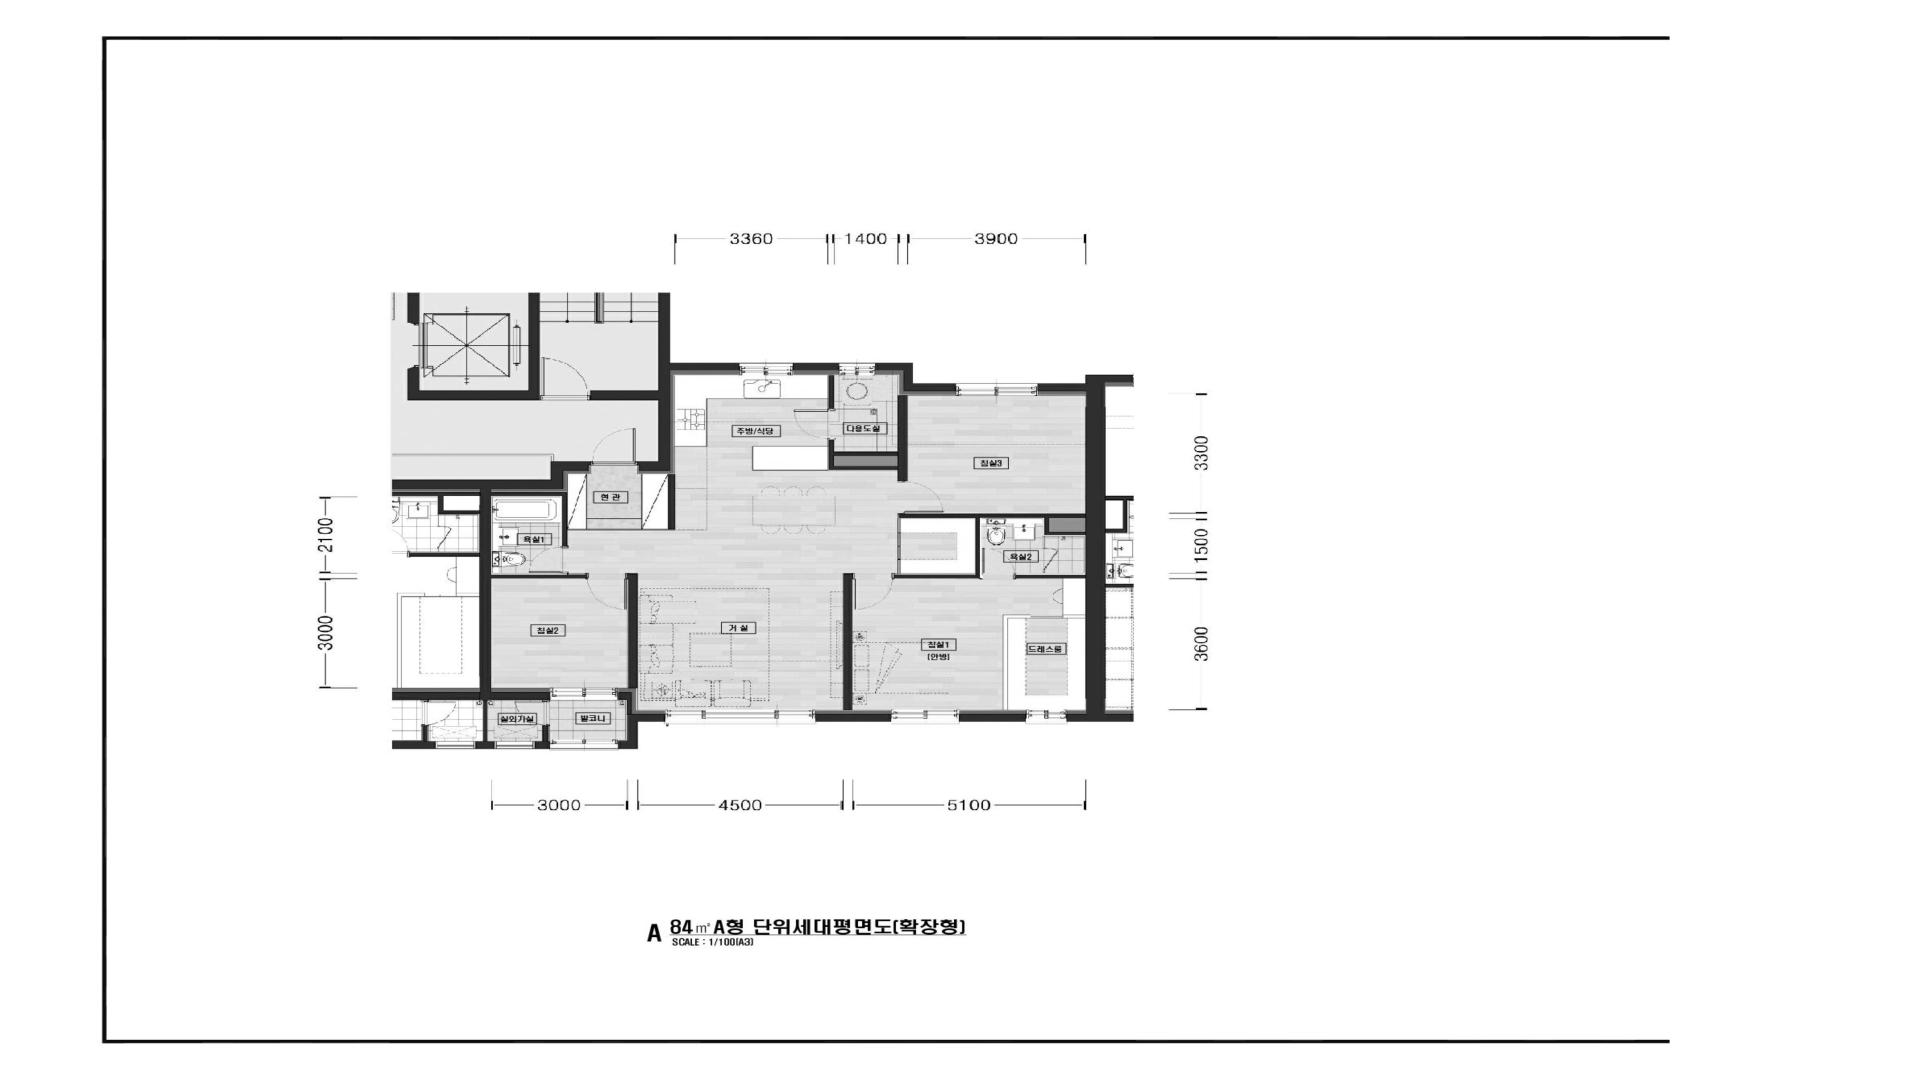door: (539, 359, 591, 401), (589, 429, 637, 465), (585, 572, 628, 611), (852, 572, 894, 609), (898, 481, 944, 514), (794, 409, 836, 440), (980, 549, 1015, 580), (527, 545, 567, 572)
wall: (480, 462, 589, 749), (1038, 382, 1105, 721), (407, 293, 541, 401), (591, 293, 671, 471), (492, 492, 567, 546), (876, 363, 956, 390), (618, 715, 666, 749), (843, 572, 853, 709), (628, 572, 638, 688), (829, 452, 898, 469), (899, 513, 1085, 518), (898, 396, 907, 481), (1044, 518, 1085, 535), (815, 713, 891, 721), (670, 363, 740, 371), (959, 713, 1026, 721), (492, 692, 550, 700), (667, 473, 675, 530), (406, 290, 418, 322), (491, 575, 585, 579), (793, 363, 839, 371), (617, 692, 632, 715), (894, 575, 976, 579), (975, 518, 980, 579), (1015, 575, 1085, 579), (829, 376, 835, 409), (535, 741, 550, 749), (542, 727, 549, 741), (829, 439, 833, 451)
window: (665, 709, 815, 724), (956, 382, 1038, 396), (891, 709, 959, 724), (550, 687, 617, 700), (550, 740, 618, 750), (740, 363, 793, 376), (1026, 709, 1068, 724), (839, 363, 876, 375), (495, 741, 535, 749)
